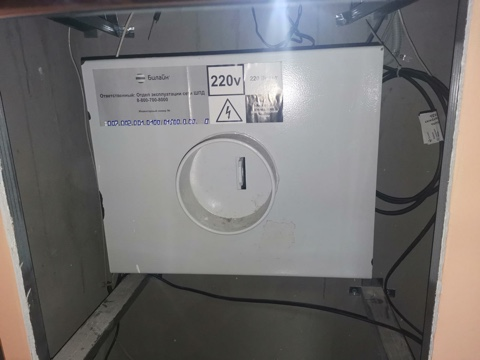shta-3: (75, 39, 388, 284)
